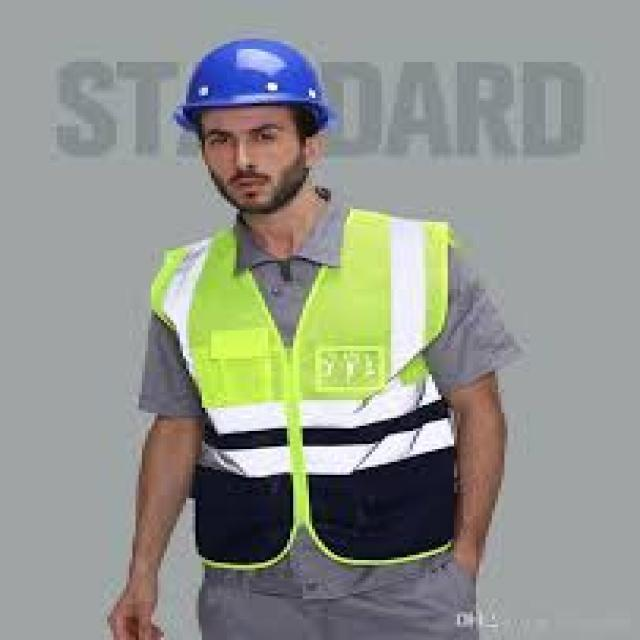reflective_jacket: (138, 211, 488, 464)
safety_helmet: (154, 28, 359, 141)
